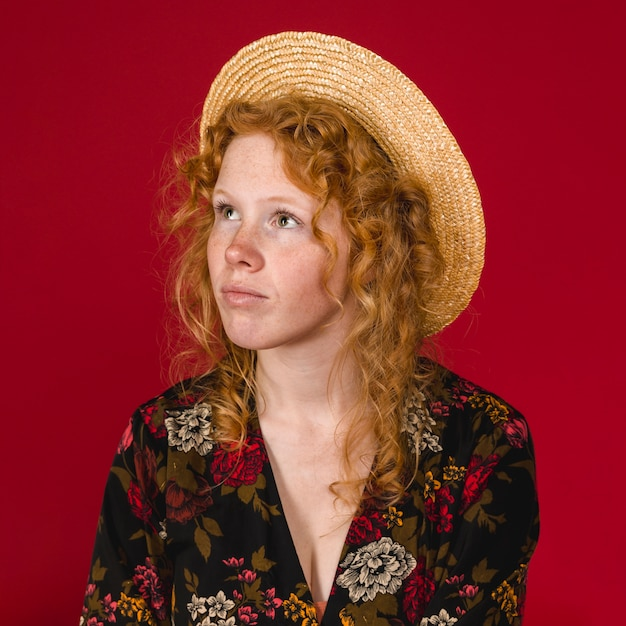young: (163, 36, 441, 412)
